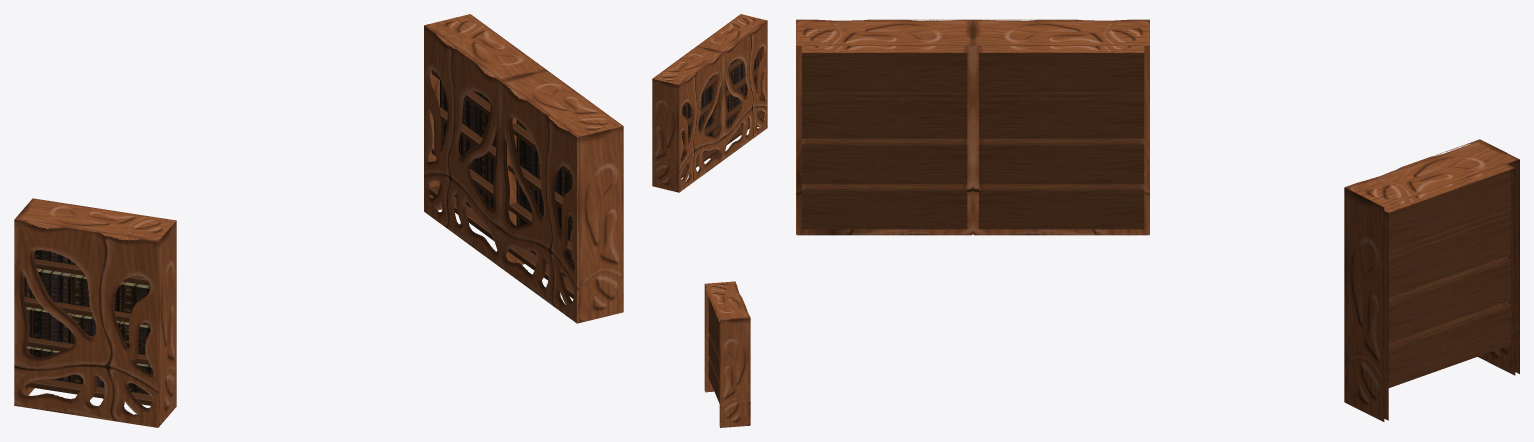
The model's file is EKH_GROTTO_PS_GR_BOOKCASE39__GX.obj.
The picture shows the model from 3 angles, left to right: view 1: azimuth 30°, elevation 25°; view 2: azimuth 150°, elevation 25°; view 3: azimuth 270°, elevation 25°; orthographic projection. The views are drawn at different scales.
Visible parts, largest first — view 1: _BookCase39__GX; view 2: _BookCase39__GX; view 3: _BookCase39__GX.
Part boxes in pixels (<box>): _BookCase39__GX: <box>14,14,623,427</box>; _BookCase39__GX: <box>652,14,767,427</box>; _BookCase39__GX: <box>796,19,1519,421</box>.
Bounding box in the file's own units: 370 × 474 × 641.
